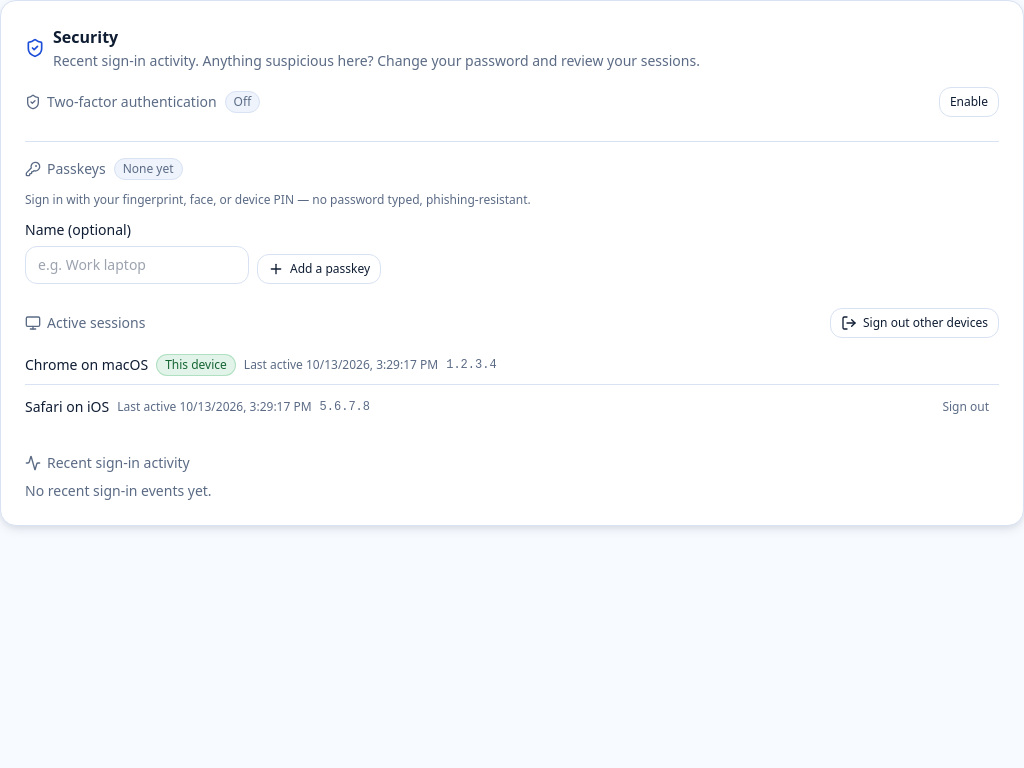
it: <SecuritySection /> › revokes a session and removes its row
The image size is (1024, 768).
Expected: the text "Safari on iOS" is shown, 25,397 -> 109,417
Click the button "Sign out".
click(966, 407)  # box 932,393 -> 999,421
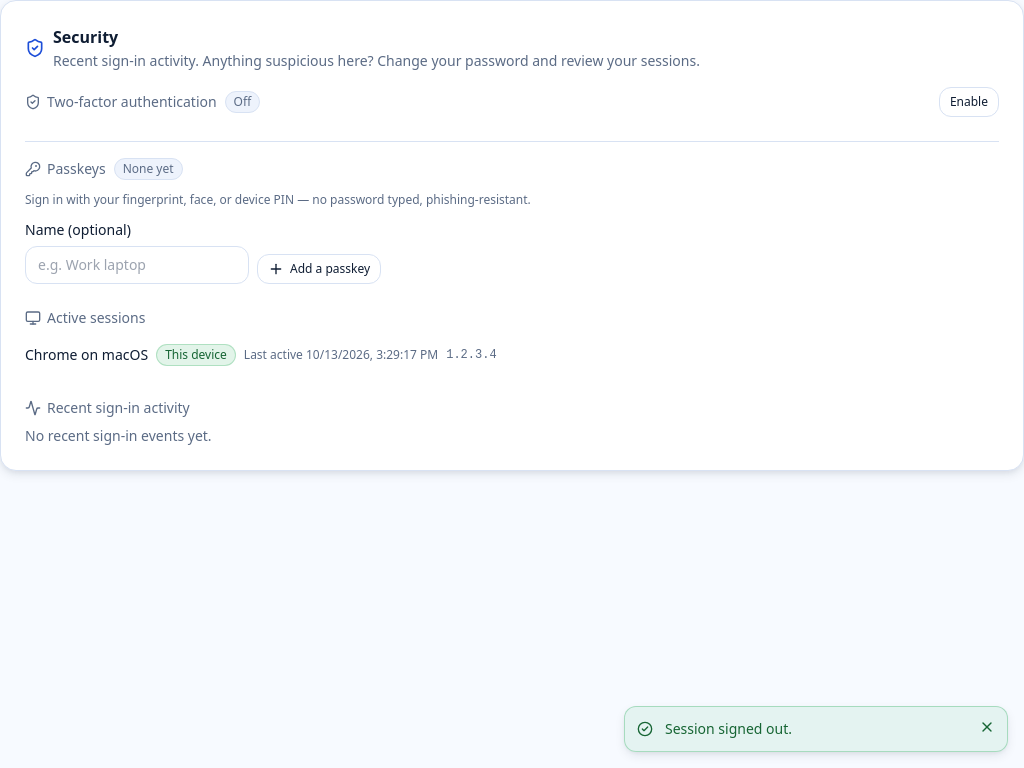
Expected: the text "Safari on iOS" is gone
